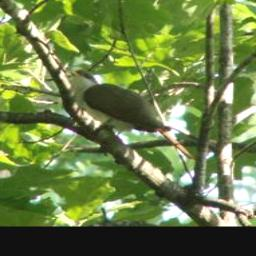Cuckoo: (60, 66, 197, 161)
